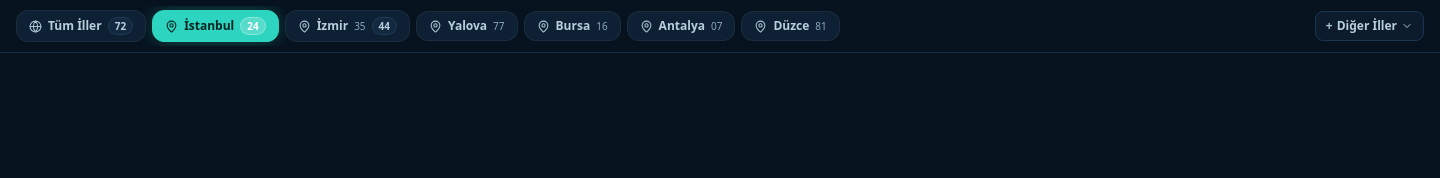
Test case: CityTabBar Component › filters dropdown cities when searching with ASCII lowercase 'istanbul' or 'izmir'
# Açılır menü butonuna tıkla
Click the button with aria-label "Tüm 81 ili listele ve seç". click: (1369, 26)
box: x1=1315 y1=11 x2=1424 y2=41
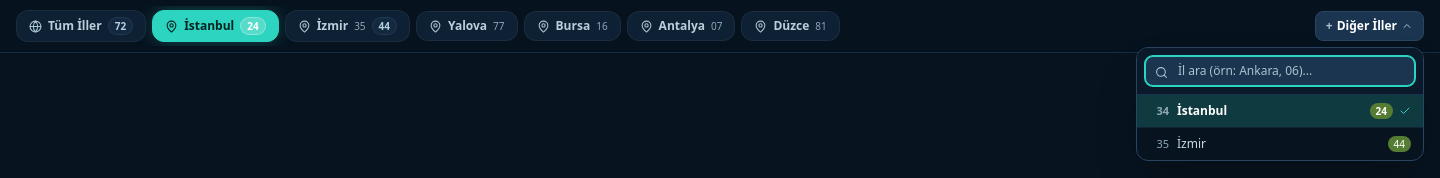
# Arama kutusuna "istanbul" yaz
Type "istanbul" into the field with placeholder "İl ara (örn: Ankara, 06)...". click: (1280, 71)
box: x1=1145 y1=56 x2=1415 y2=86
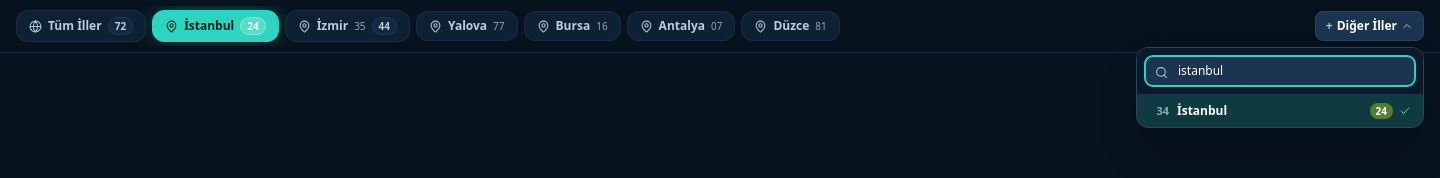
Expected: the list does not show "Niğde", x1=1136 y1=47 x2=1424 y2=128
Expected: the list shows "İstanbul", x1=1137 y1=95 x2=1423 y2=127
# Arama kutusuna "izmir" yaz
Replace the text in the field with placeholder "İl ara (örn: Ankara, 06)..." with "izmir". click: (1280, 71)
box: x1=1145 y1=56 x2=1415 y2=86
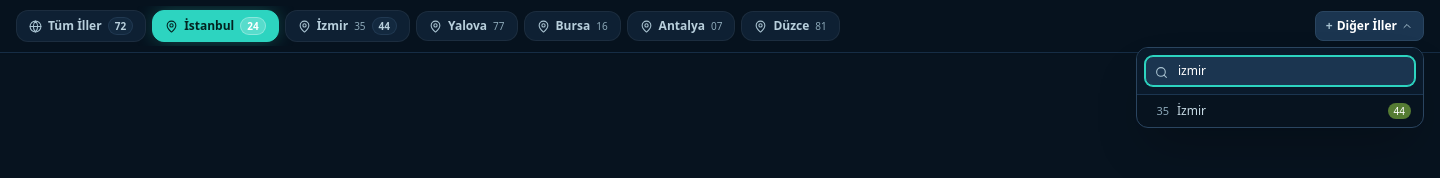
Expected: the list does not show "İstanbul", x1=1136 y1=47 x2=1424 y2=128
Expected: the list shows "İzmir", x1=1137 y1=95 x2=1423 y2=127
